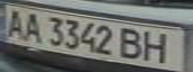2: (93, 22, 118, 56)
3: (42, 15, 66, 47), (60, 17, 81, 51)
4: (78, 20, 100, 54)
A: (0, 6, 30, 39), (18, 10, 45, 43)
B: (115, 25, 148, 61)
H: (139, 29, 175, 64)
